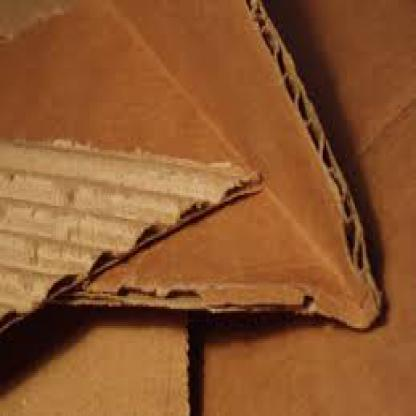CARDBOARD: (0, 0, 415, 415), (0, 0, 379, 330), (0, 137, 260, 335), (0, 302, 187, 414)
